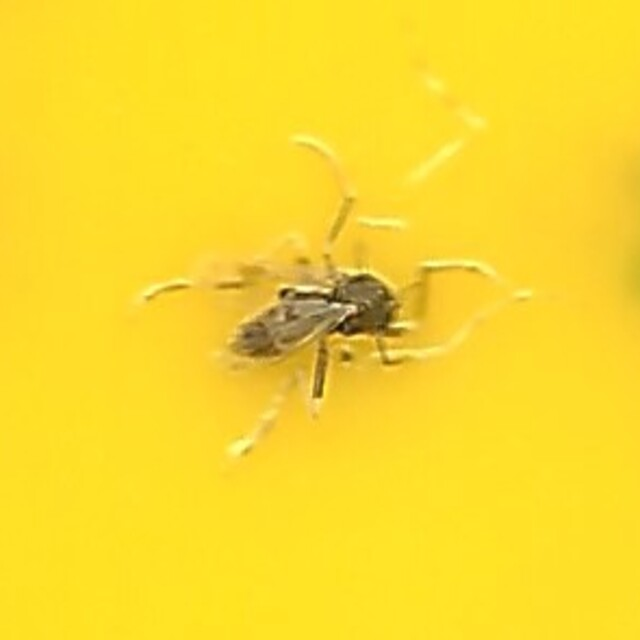Nematocera: (217, 244, 423, 396)
